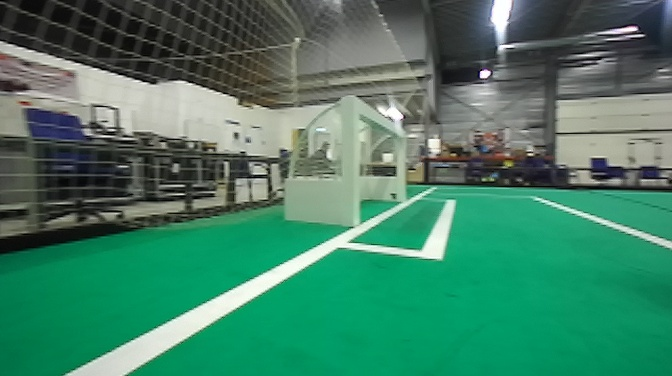goalpost: (340, 87, 366, 233), (385, 113, 417, 213)
